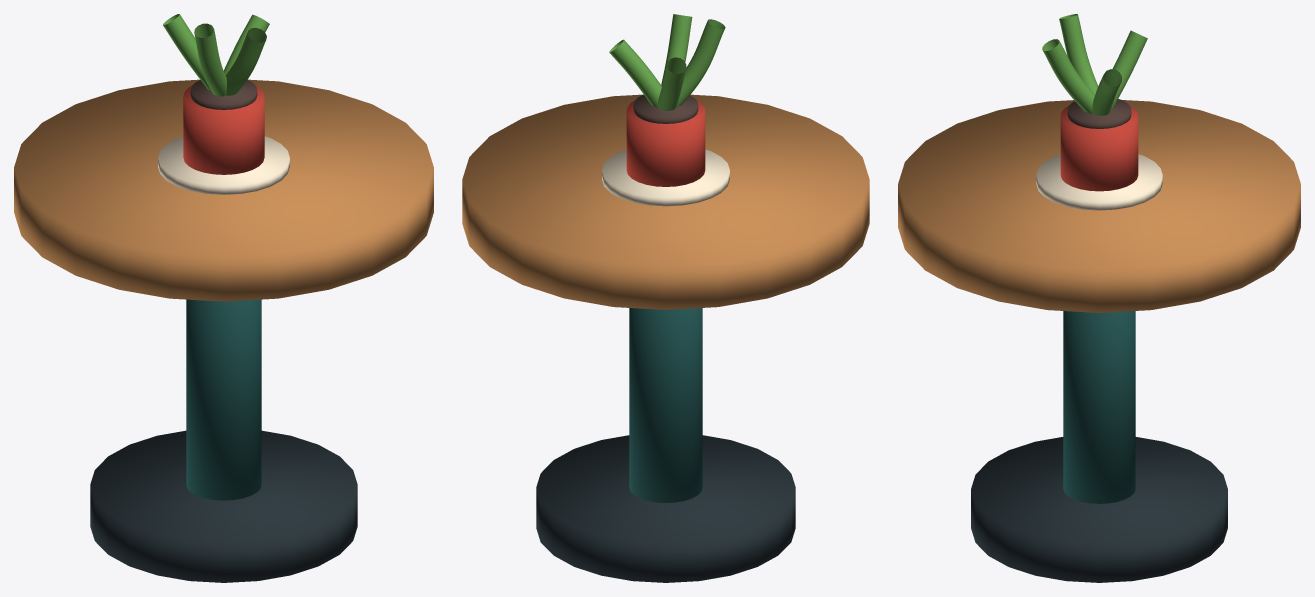
The picture shows the model from 3 angles, left to right: view 1: azimuth 30°, elevation 25°; view 2: azimuth 150°, elevation 25°; view 3: azimuth 270°, elevation 25°; orthographic projection. The views are drawn at different scales.
Visible parts, largest first — view 1: Maple tabletop, Cast iron pedestal foot, Pedestal column, Glazed herb pot, Ceramic saucer, Herb sprig.003, Herb sprig.002, Potting soil, Herb sprig.001, Herb sprig; view 2: Maple tabletop, Cast iron pedestal foot, Pedestal column, Glazed herb pot, Ceramic saucer, Herb sprig.003, Herb sprig, Potting soil, Herb sprig.001, Herb sprig.002; view 3: Maple tabletop, Cast iron pedestal foot, Pedestal column, Glazed herb pot, Ceramic saucer, Herb sprig.002, Herb sprig.003, Potting soil, Herb sprig.001, Herb sprig.
Part boxes in pixels (x1,y1,x2,y2): Maple tabletop: (14,79,433,301); Cast iron pedestal foot: (90,430,357,582); Pedestal column: (186,299,261,500); Glazed herb pot: (183,86,264,174); Ceramic saucer: (158,136,289,194); Herb sprig.003: (194,23,226,96); Herb sprig.002: (225,27,266,95); Potting soil: (190,80,257,109); Herb sprig.001: (163,14,211,91); Herb sprig: (223,14,269,74); Maple tabletop: (462,94,869,309); Cast iron pedestal foot: (536,435,795,582); Pedestal column: (629,308,702,502); Glazed herb pot: (626,100,705,186); Ceramic saucer: (602,149,729,206); Herb sprig.003: (676,19,725,106); Herb sprig: (609,39,661,107); Potting soil: (633,94,698,123); Herb sprig.001: (657,57,686,110); Herb sprig.002: (661,14,692,85); Maple tabletop: (898,100,1300,312); Cast iron pedestal foot: (971,437,1227,582); Pedestal column: (1063,311,1135,503); Glazed herb pot: (1060,106,1138,191); Ceramic saucer: (1036,154,1162,210); Herb sprig.002: (1042,39,1094,113); Herb sprig.003: (1059,14,1098,94); Potting soil: (1067,99,1131,128); Herb sprig.001: (1111,30,1147,109); Herb sprig: (1092,69,1121,115).
Size of the model in its own units: 0.91 by 1.24 by 0.91.
